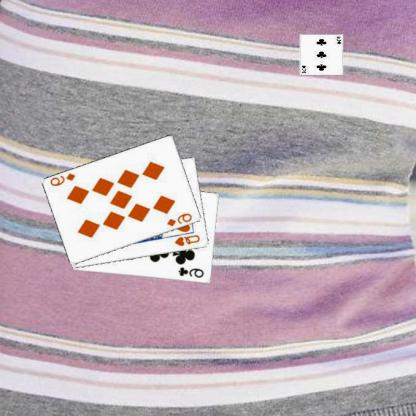9C: (178, 265, 208, 279)
9D: (166, 210, 195, 228), (49, 171, 79, 188)
QH: (174, 233, 203, 247)
